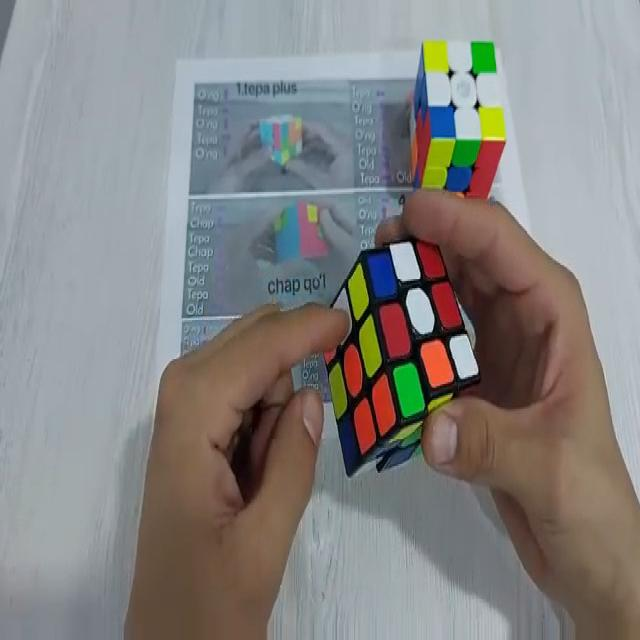Rub: (321, 230, 480, 478), (411, 36, 508, 202)
